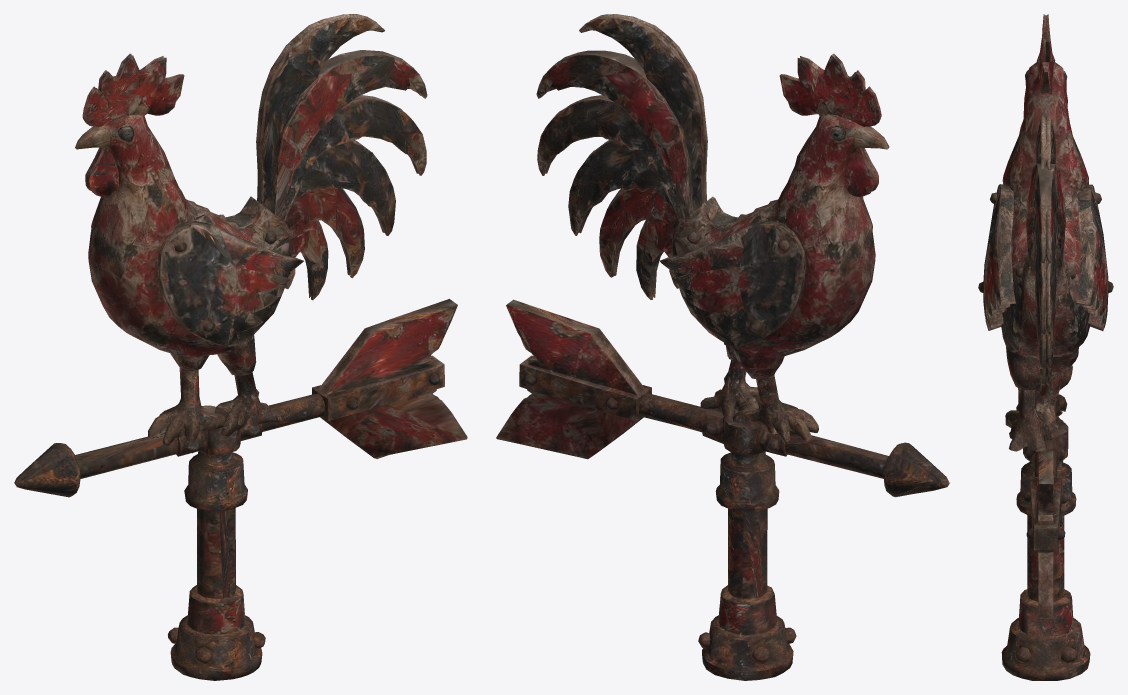
File: rooster.glb
The picture shows the model from 3 angles, left to right: view 1: azimuth 30°, elevation 25°; view 2: azimuth 150°, elevation 25°; view 3: azimuth 270°, elevation 25°; orthographic projection. The views are drawn at different scales.
Visible parts, largest first — view 1: vane; view 2: vane; view 3: vane.
Boxes of the visible parts, bbox=[...] form: vane: bbox=[14, 14, 467, 680]; vane: bbox=[496, 14, 949, 680]; vane: bbox=[978, 14, 1113, 680].
Size of the model in its own units: 0.7101 by 0.95 by 0.1918.
Materials: 1 (1 with a texture image).
